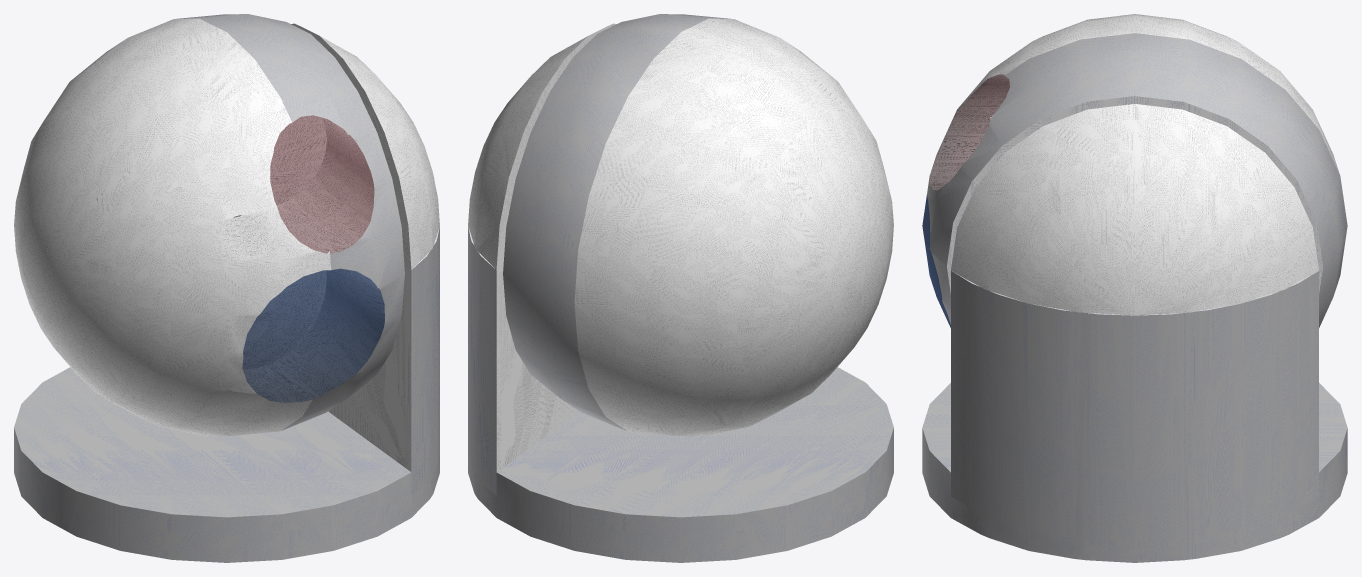
The model's file is flir_gimbal.dae.
3 views of the same model, side by side, from view 1: azimuth 30°, elevation 25°; view 2: azimuth 150°, elevation 25°; view 3: azimuth 270°, elevation 25° (orthographic).
Visible parts, largest first — view 1: SketchUp (×9); view 2: SketchUp (×2); view 3: SketchUp (×6).
Part boxes in pixels (x1,y1,x2,y2): SketchUp (×9): (14,14,439,562); SketchUp (×2): (468,14,893,562); SketchUp (×6): (922,14,1347,562).
Bounding box in the file's own units: 4 × 4 × 4.57.
